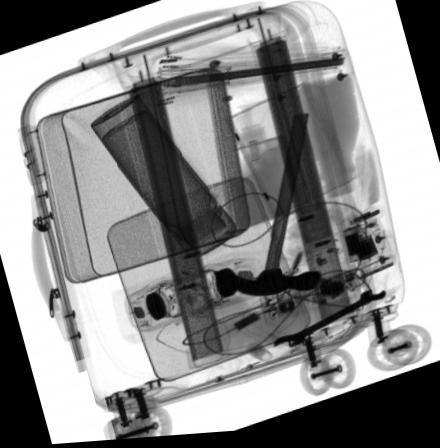Hammer: (212, 118, 322, 300)
Wrench: (272, 294, 387, 352)
